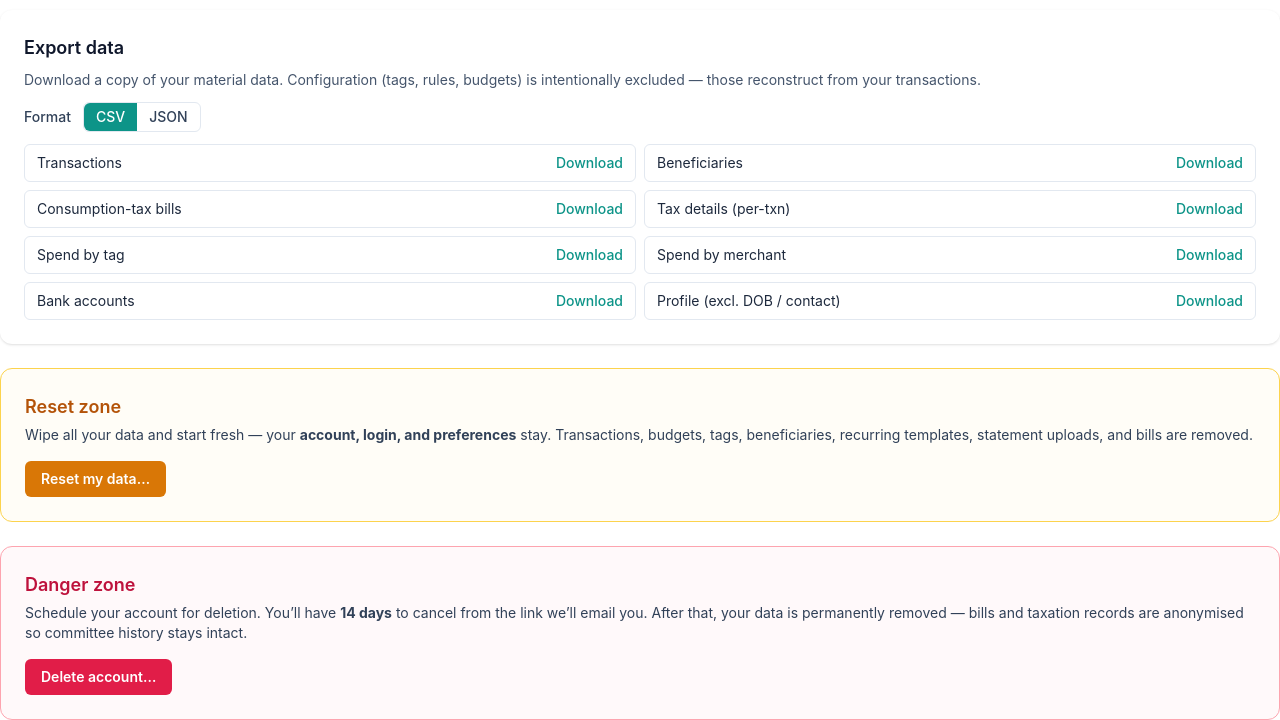
Test case: AccountPrivacyPage › opens the password confirm modal when Delete account is clicked
(page scrolled)
Step 1. Click the button with test id "danger-zone-delete" → (99,677), box [25, 659, 172, 695]
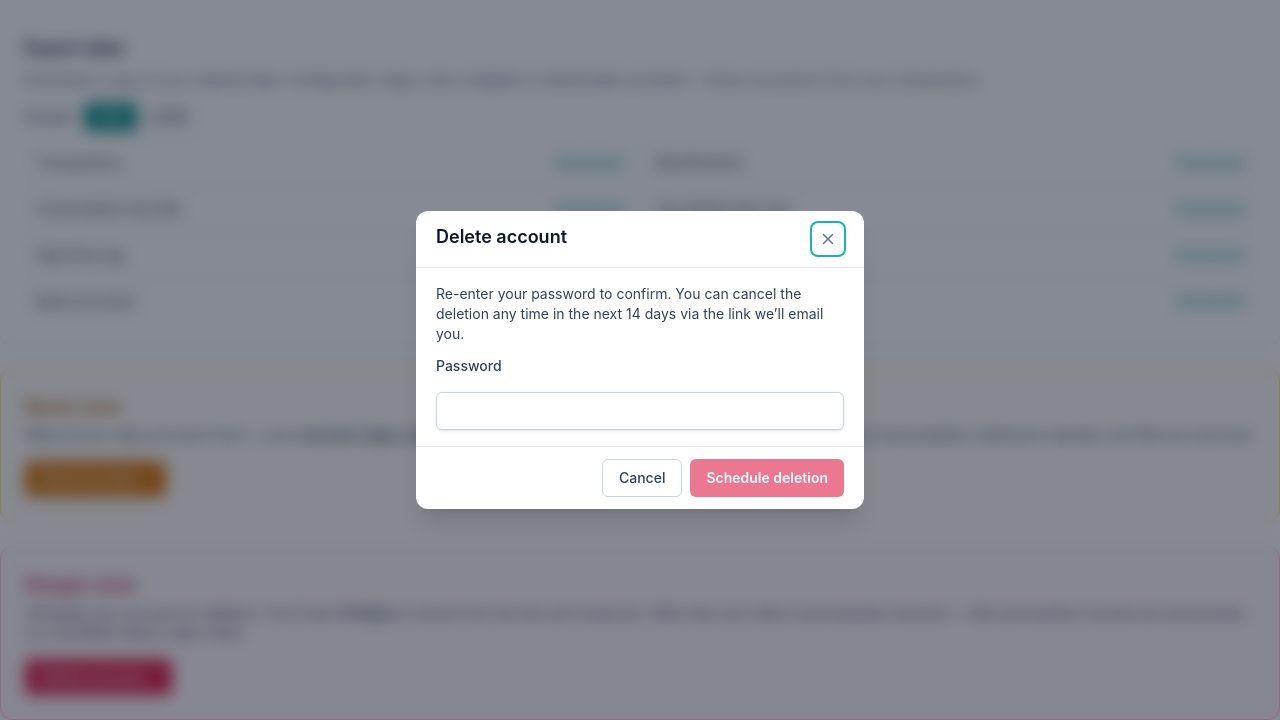
Expected: the heading "Delete account" is shown, [436, 223, 567, 251]
Expected: the password field labelled "Password" is shown, [436, 392, 844, 430]
